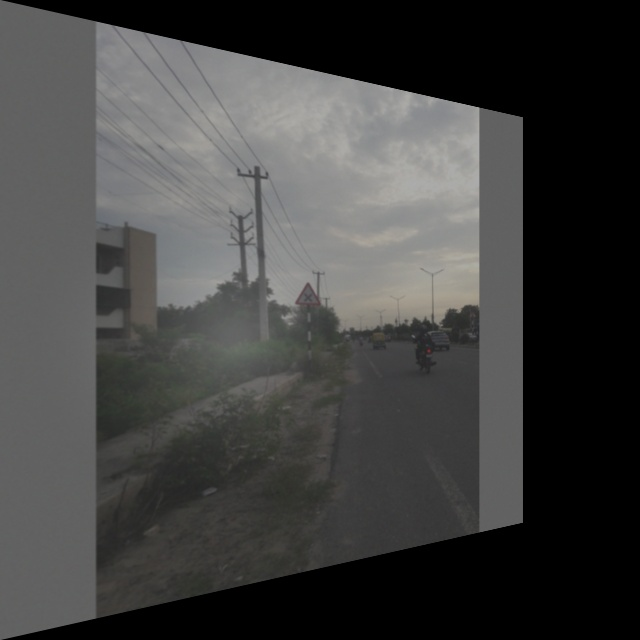Cross_Road: (293, 277, 322, 308)
